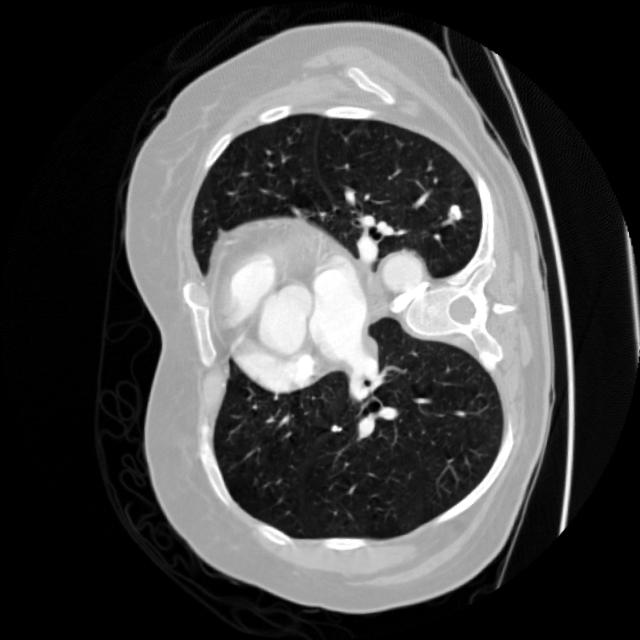nodule: (436, 194, 471, 230)
